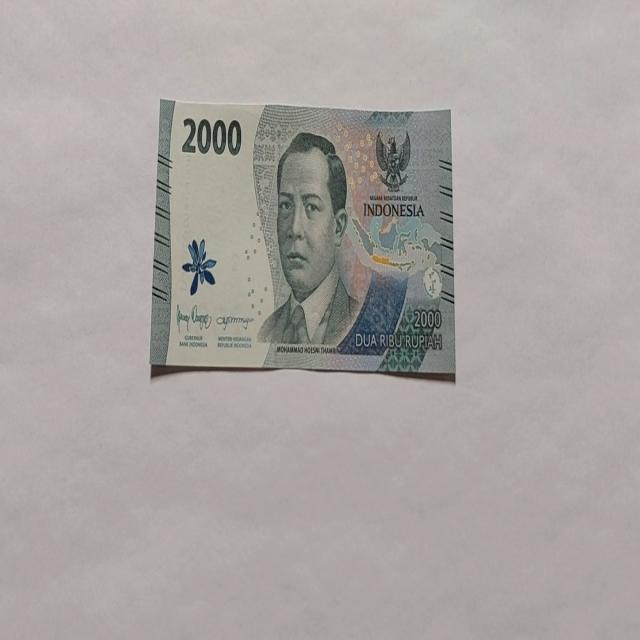dua ribu rupiah: (149, 97, 455, 378), (256, 130, 360, 350)
